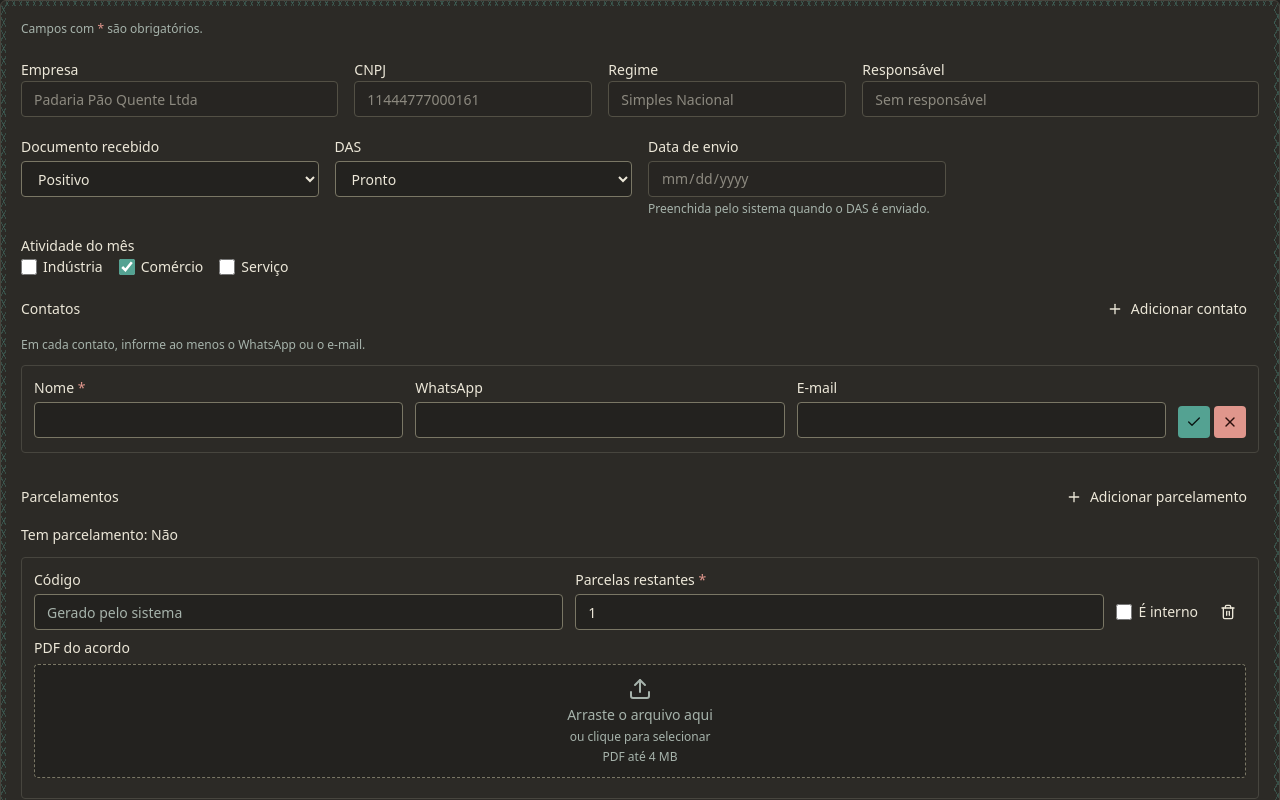
Scenario: EditarCadastroOperacionalContainer › Cancelar na única linha nova a esvazia
The width and height of the screenshot is (1280, 800).
Type "Joana" into the field labelled "Nome *" at (219, 420), box [34,402,403,438]
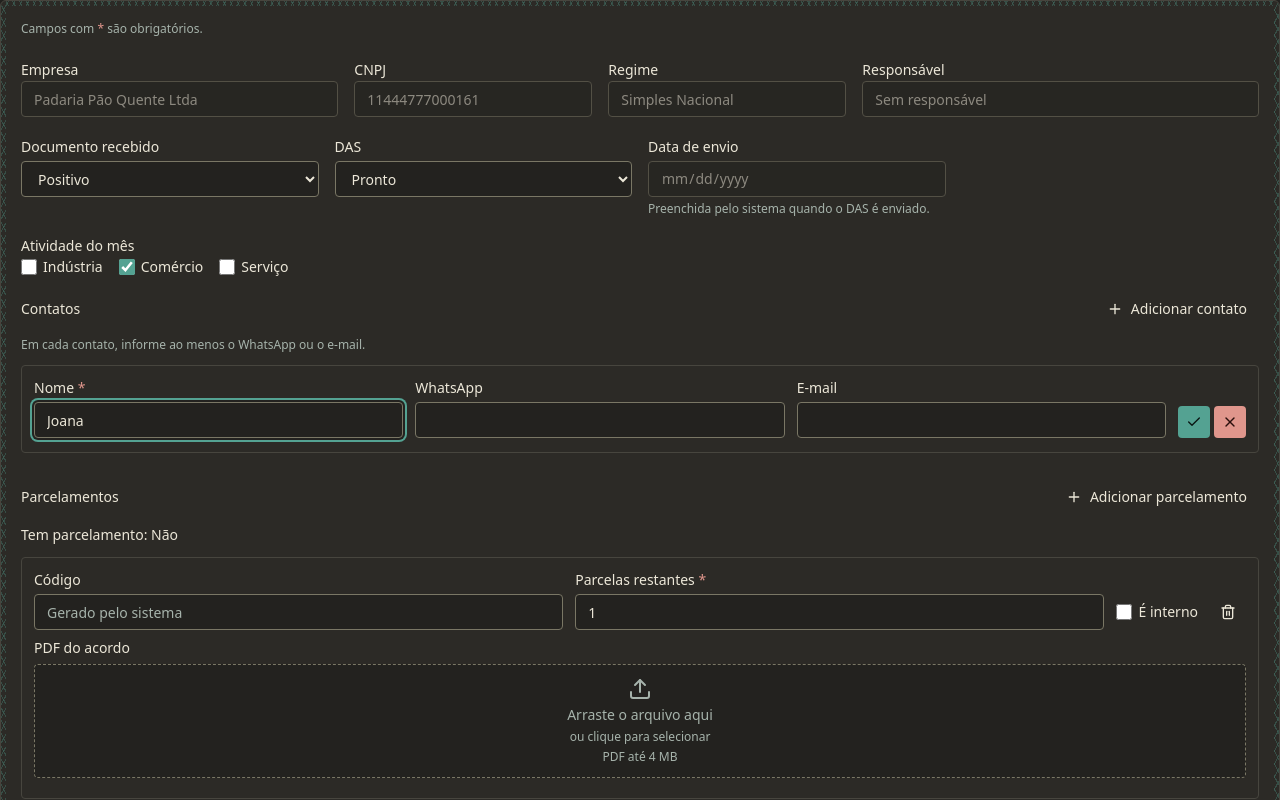
Type "joana@exemplo.com" into the field labelled "E-mail" at (981, 420), box [797,402,1166,438]
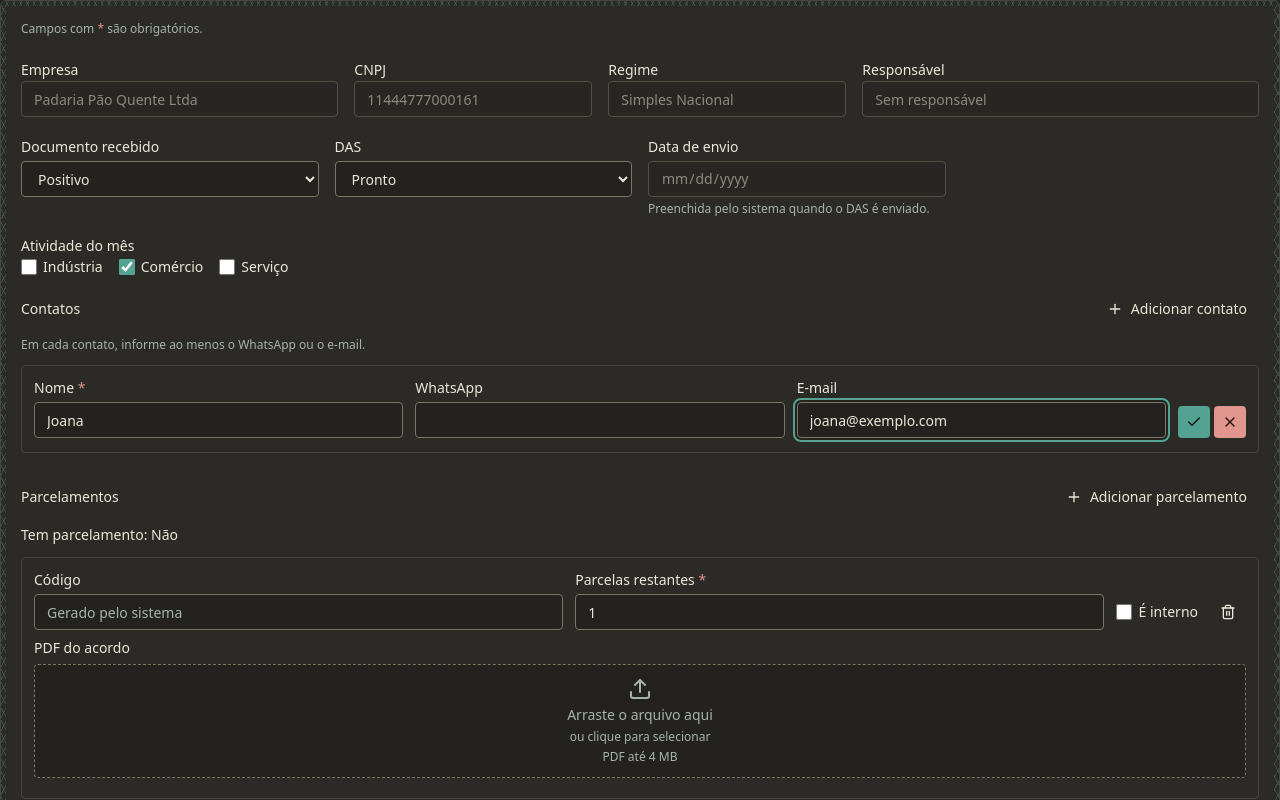
Click the button named "Cancelar edição do contato 1" at (1230, 422), box [1214,406,1246,438]
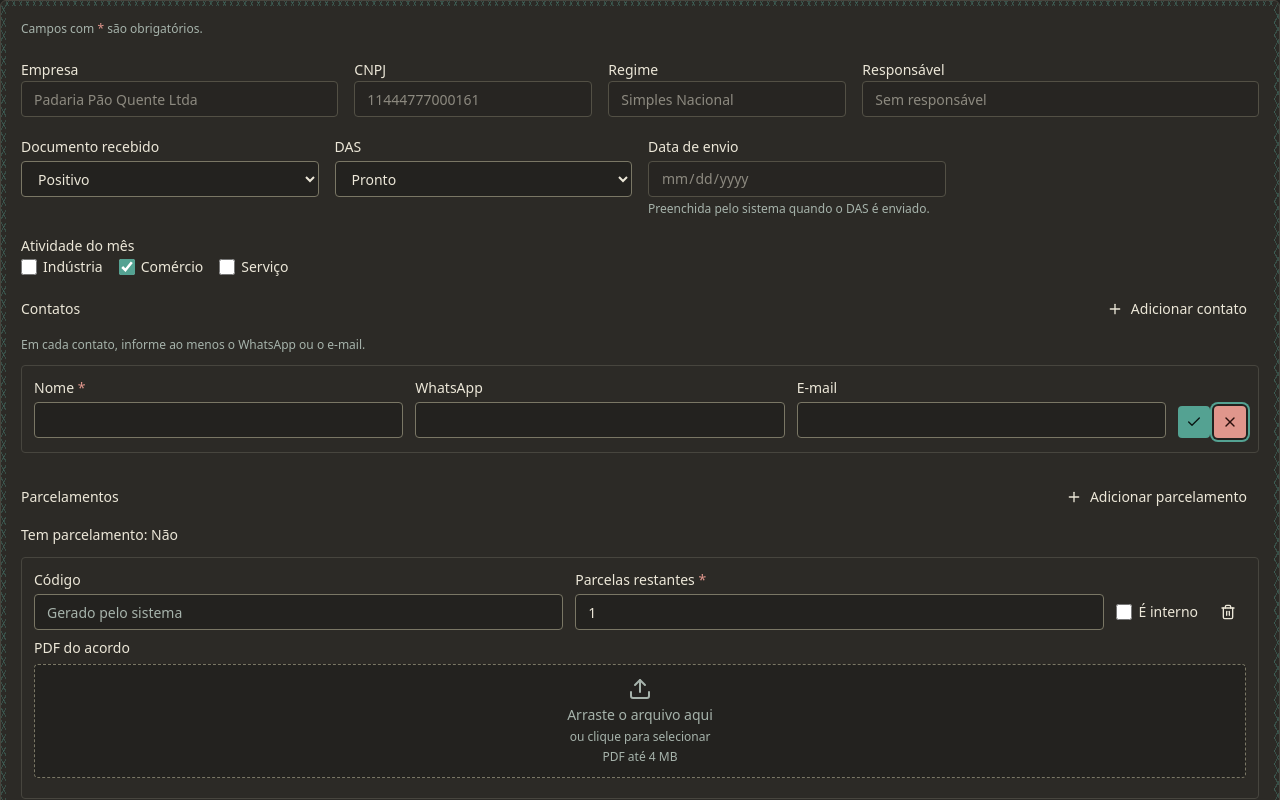
Now the field labelled "Nome *" is empty, box [34,402,403,438]
Now the field labelled "E-mail" is empty, box [797,402,1166,438]
